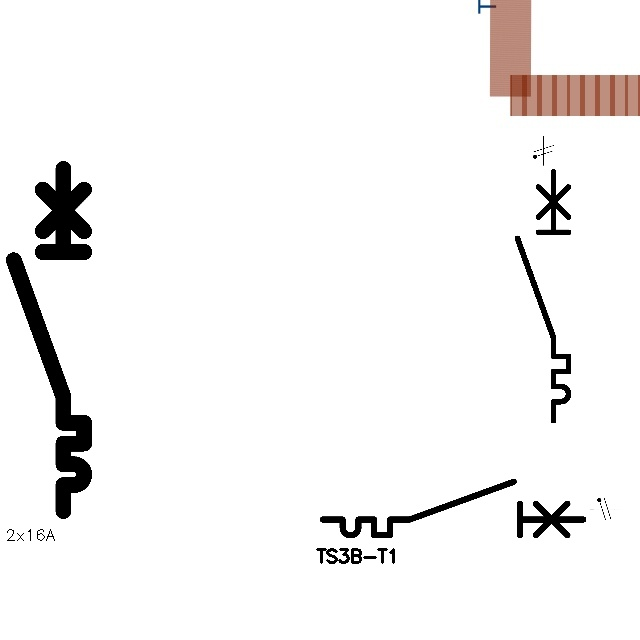interruptor_termomagnetico: (5, 160, 93, 520), (316, 475, 590, 542), (511, 165, 575, 427)
